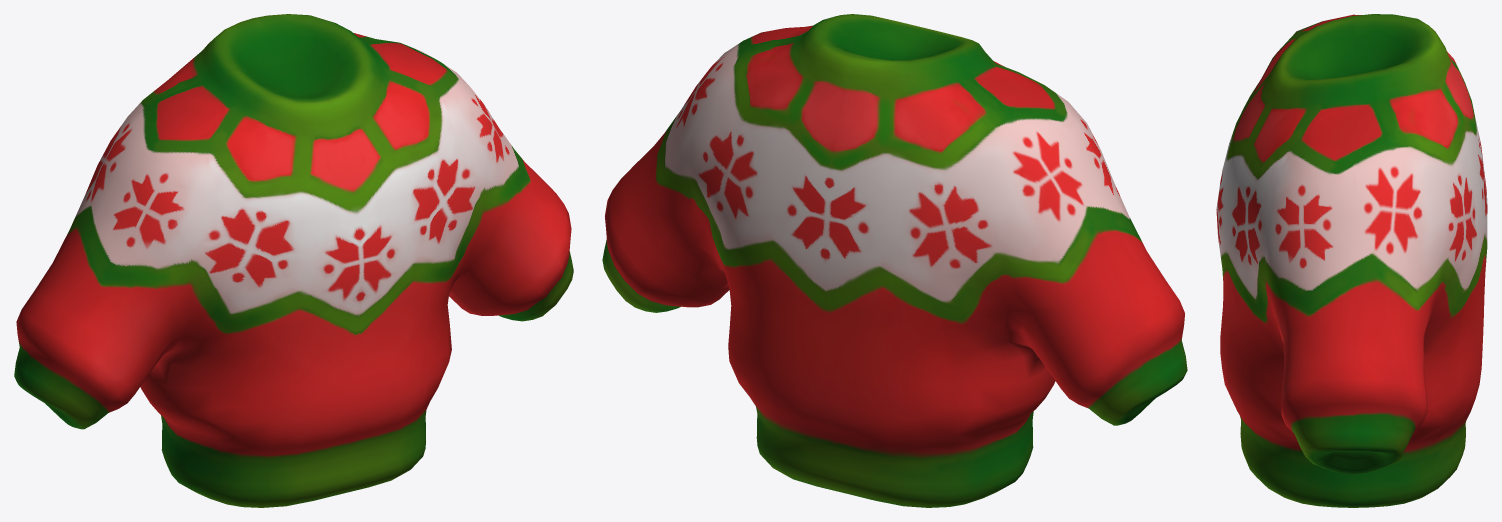
File: ShengDanYiFu.FBX
The picture shows the model from 3 angles, left to right: view 1: azimuth 30°, elevation 25°; view 2: azimuth 150°, elevation 25°; view 3: azimuth 270°, elevation 25°; orthographic projection. The views are drawn at different scales.
Parts seen in each view (by area): view 1: ShengDanYiFu; view 2: ShengDanYiFu; view 3: ShengDanYiFu.
Part boxes in pixels (box(x1,y1,x2,y2)): ShengDanYiFu: box(14, 14, 573, 507); ShengDanYiFu: box(602, 14, 1187, 507); ShengDanYiFu: box(1216, 14, 1487, 507).
Bounding box in the file's own units: 130 × 95.69 × 55.79.
Materials: 1 (1 with a texture image).
